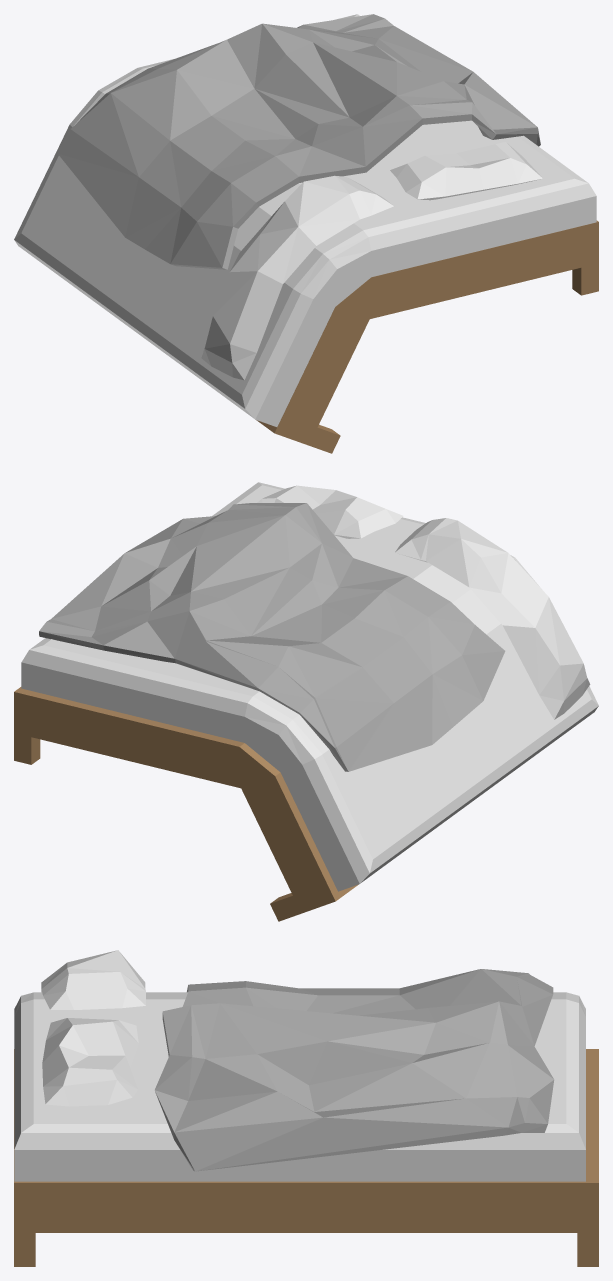
File: bed_sleep.fbx
3 renders of one model, top to bottom at view 1: azimuth 30°, elevation 25°; view 2: azimuth 150°, elevation 25°; view 3: azimuth 270°, elevation 25°, orthographic. The views are drawn at different scales.
Visible parts, largest first — view 1: polySurface70; view 2: polySurface70; view 3: polySurface70.
Part boxes in pixels (<box>): polySurface70: <box>14,14,598,453</box>; polySurface70: <box>14,482,598,921</box>; polySurface70: <box>14,950,598,1266</box>.
Bounding box in the file's own units: 200 × 133 × 226.
